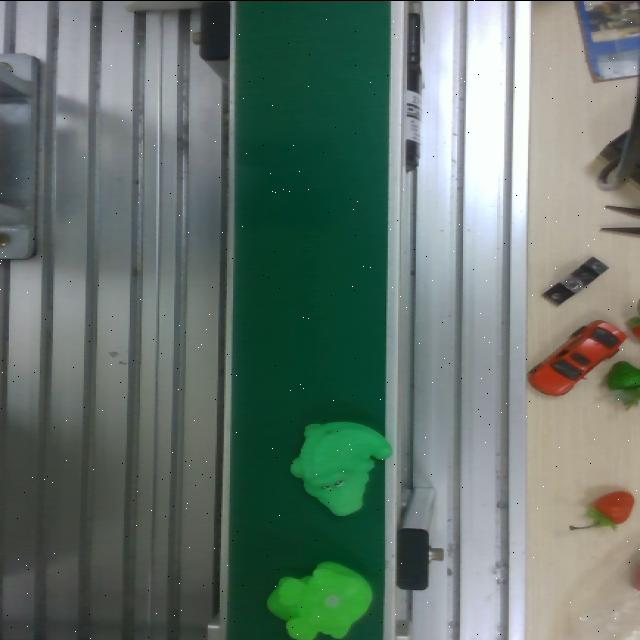Large Unripe Strawberry: (565, 487, 637, 534)
None - Strawberry: (282, 412, 387, 520), (266, 557, 380, 640)
conveyor: (212, 0, 394, 640)
